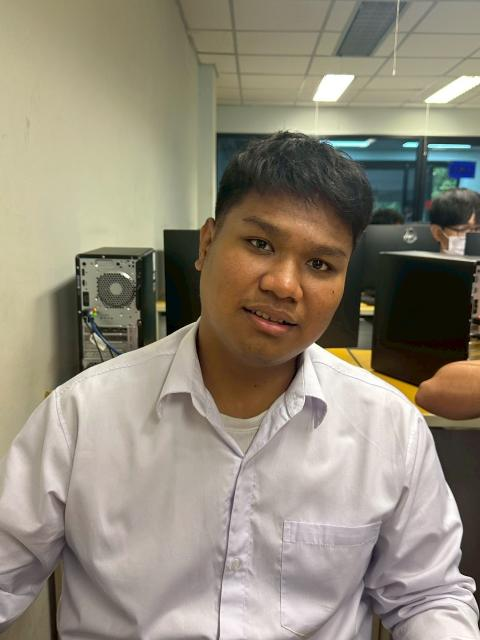fokus: (199, 133, 356, 370)
